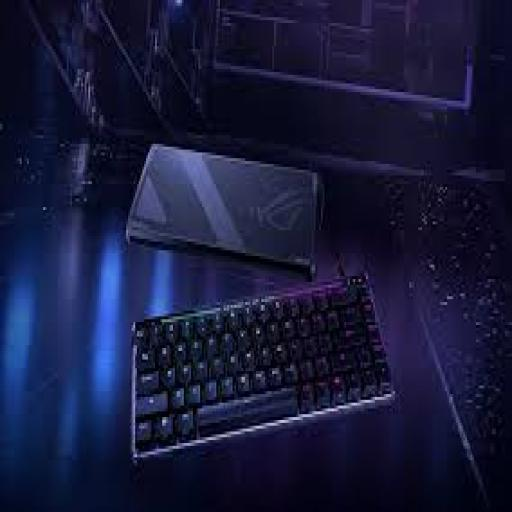KEYBOARD-2: (133, 273, 393, 457)
